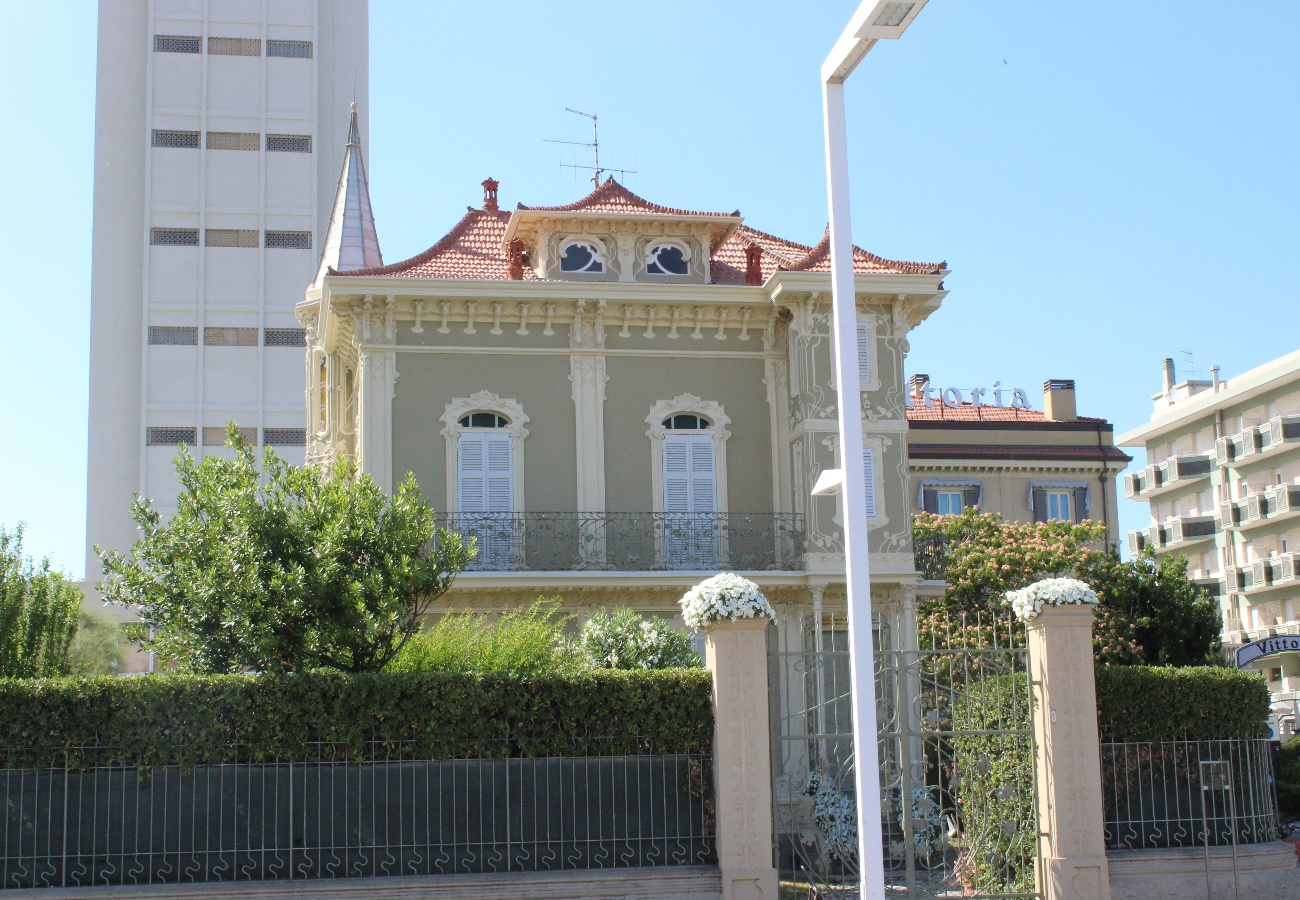Villino Ruggeri: (300, 98, 953, 891)
